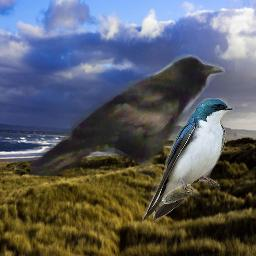Crow: (30, 54, 225, 176)
Swallow: (142, 98, 234, 222)
